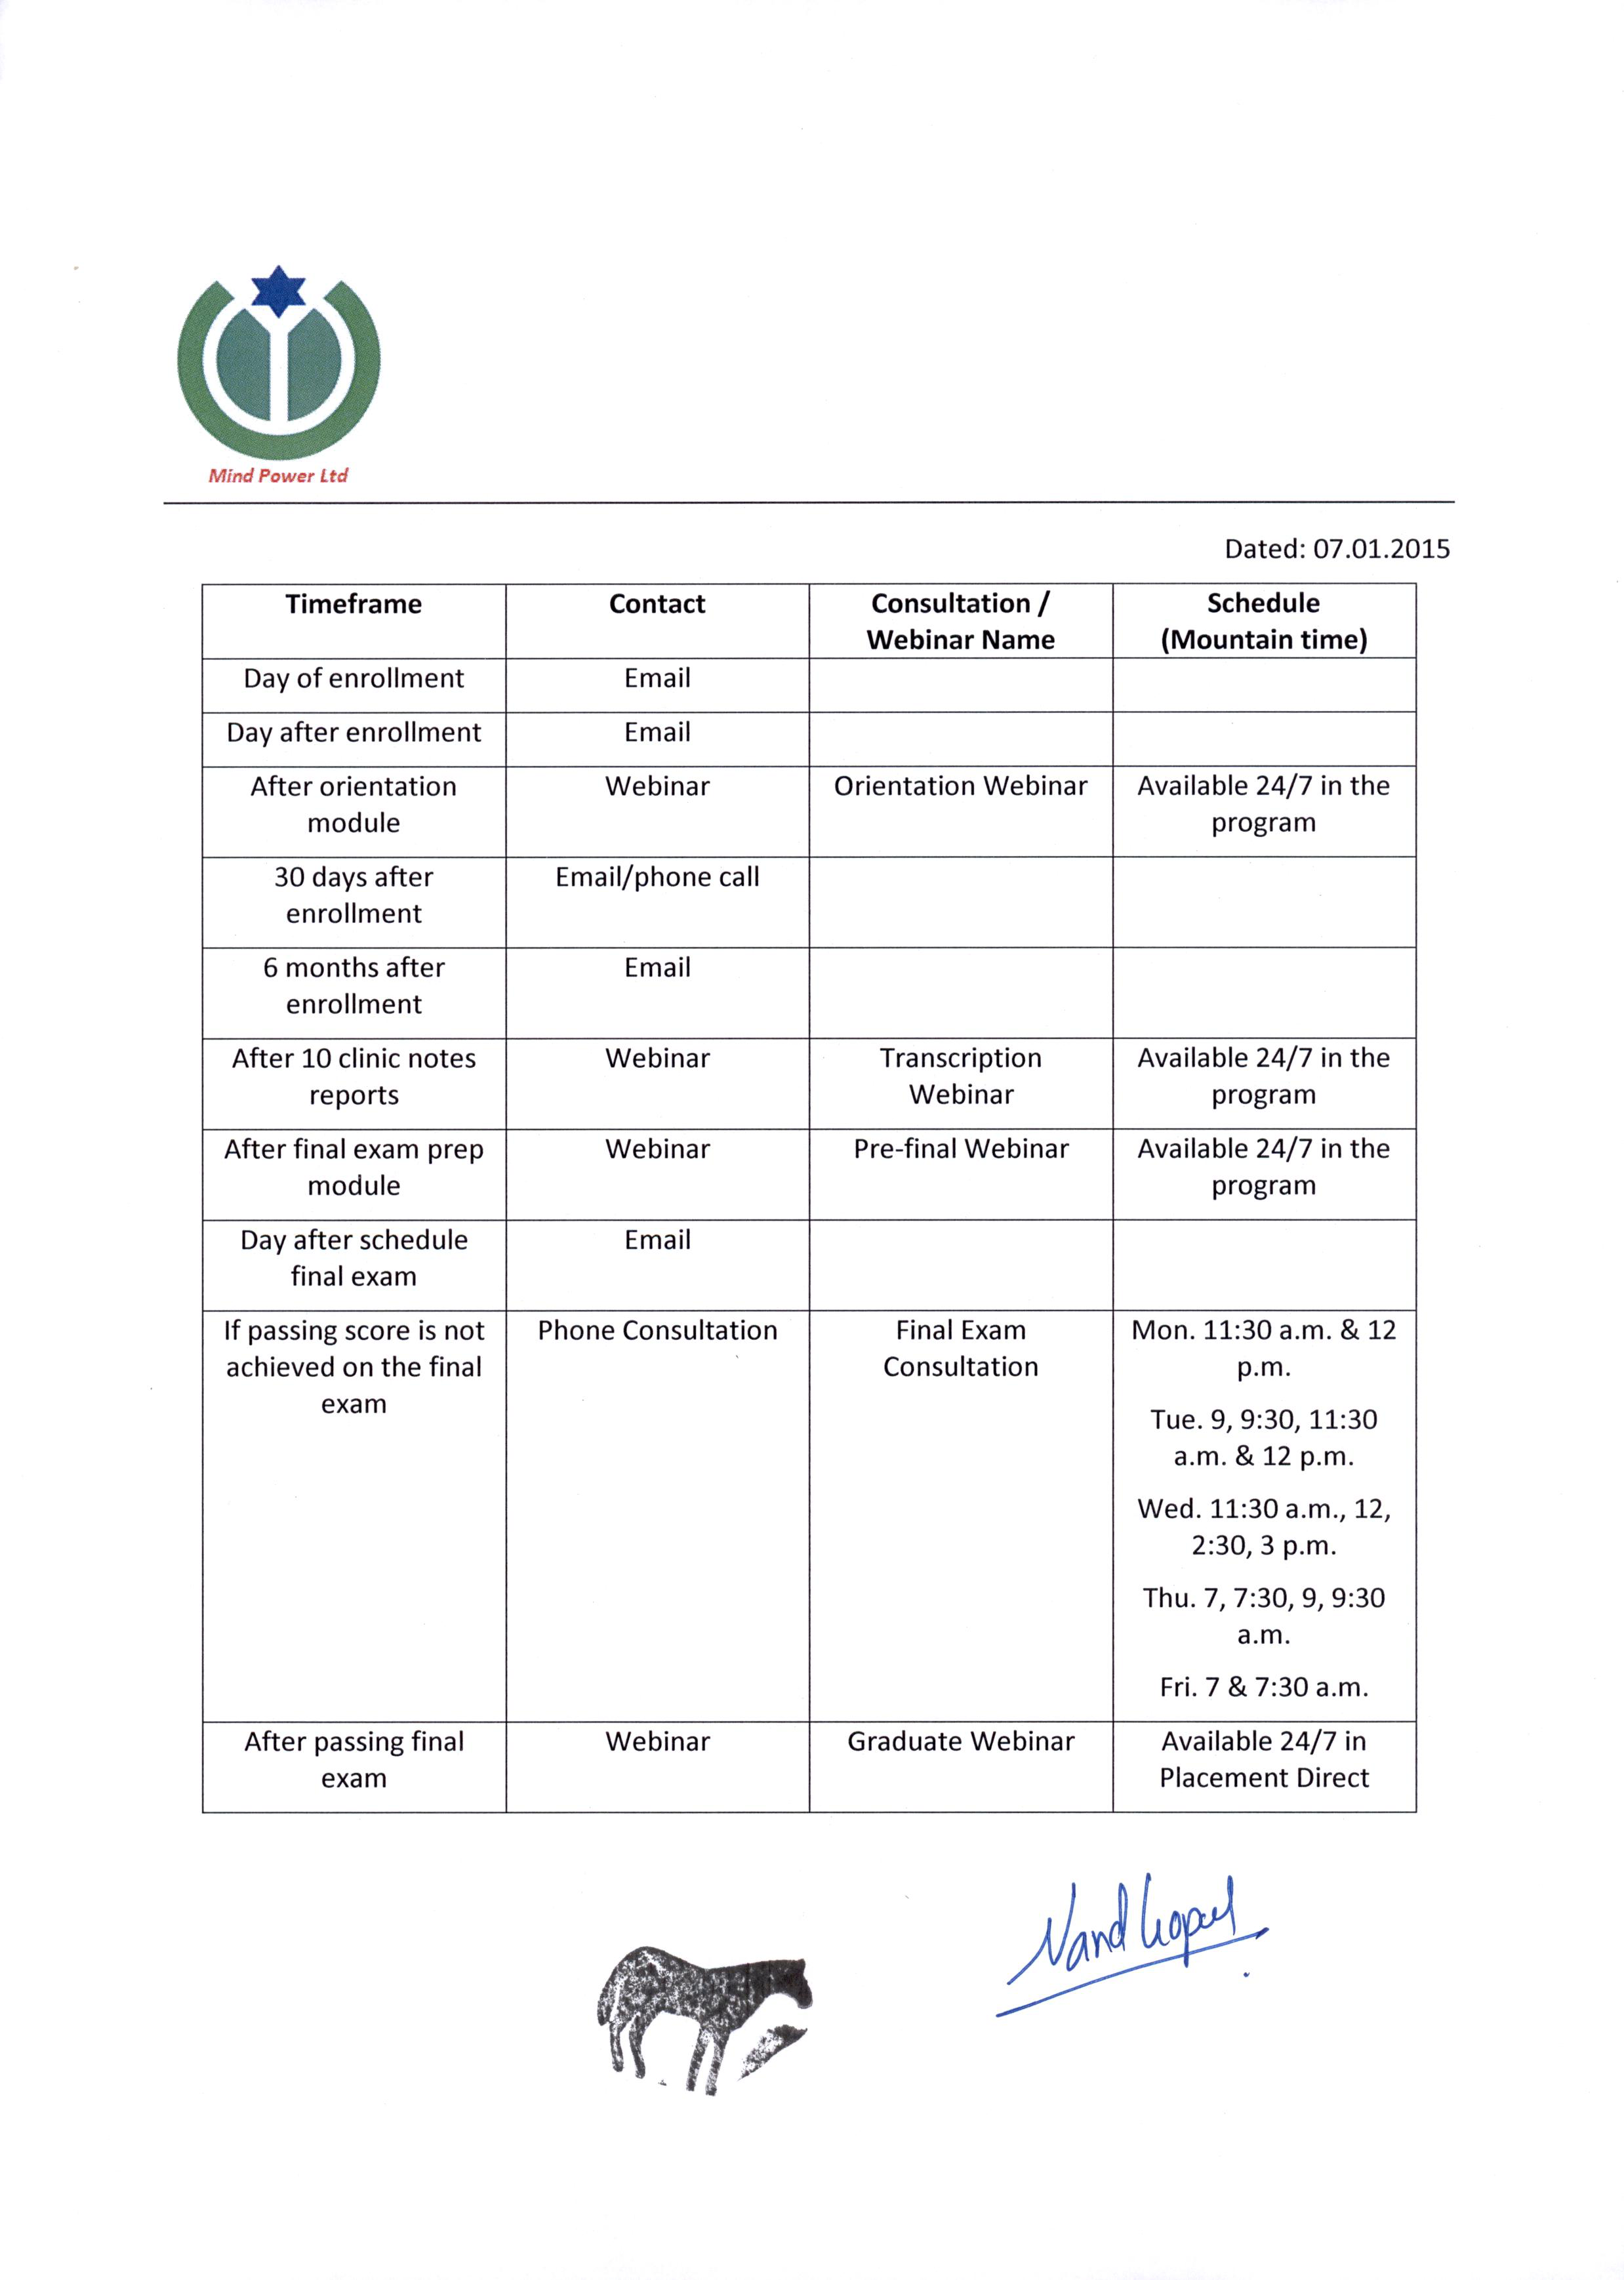Signature: (988, 1867, 1278, 2022)
